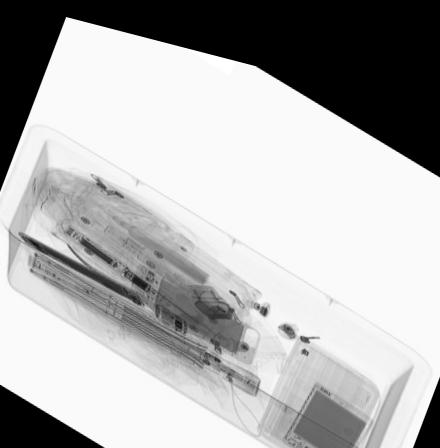Powerbank: (280, 362, 376, 448)
